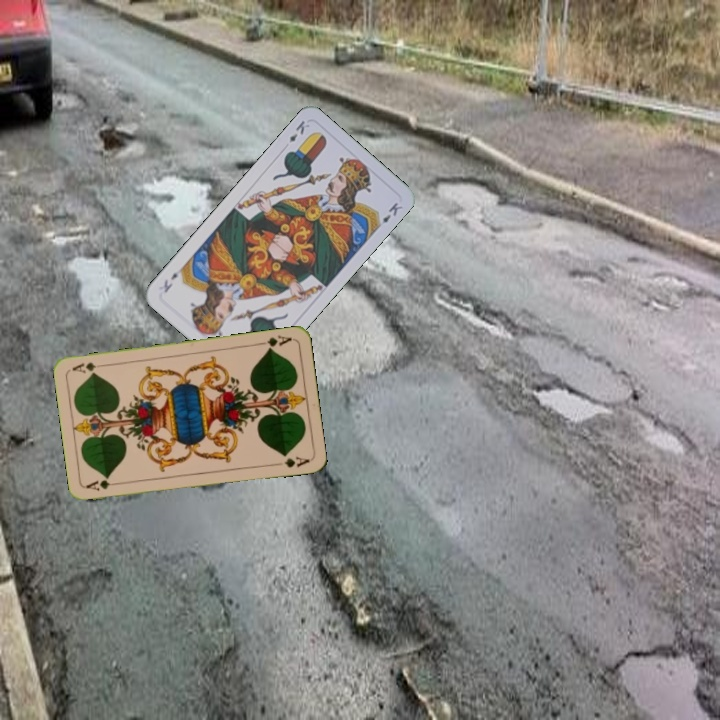EK: (285, 117, 312, 145)
GA: (254, 331, 294, 353), (83, 476, 124, 493)
